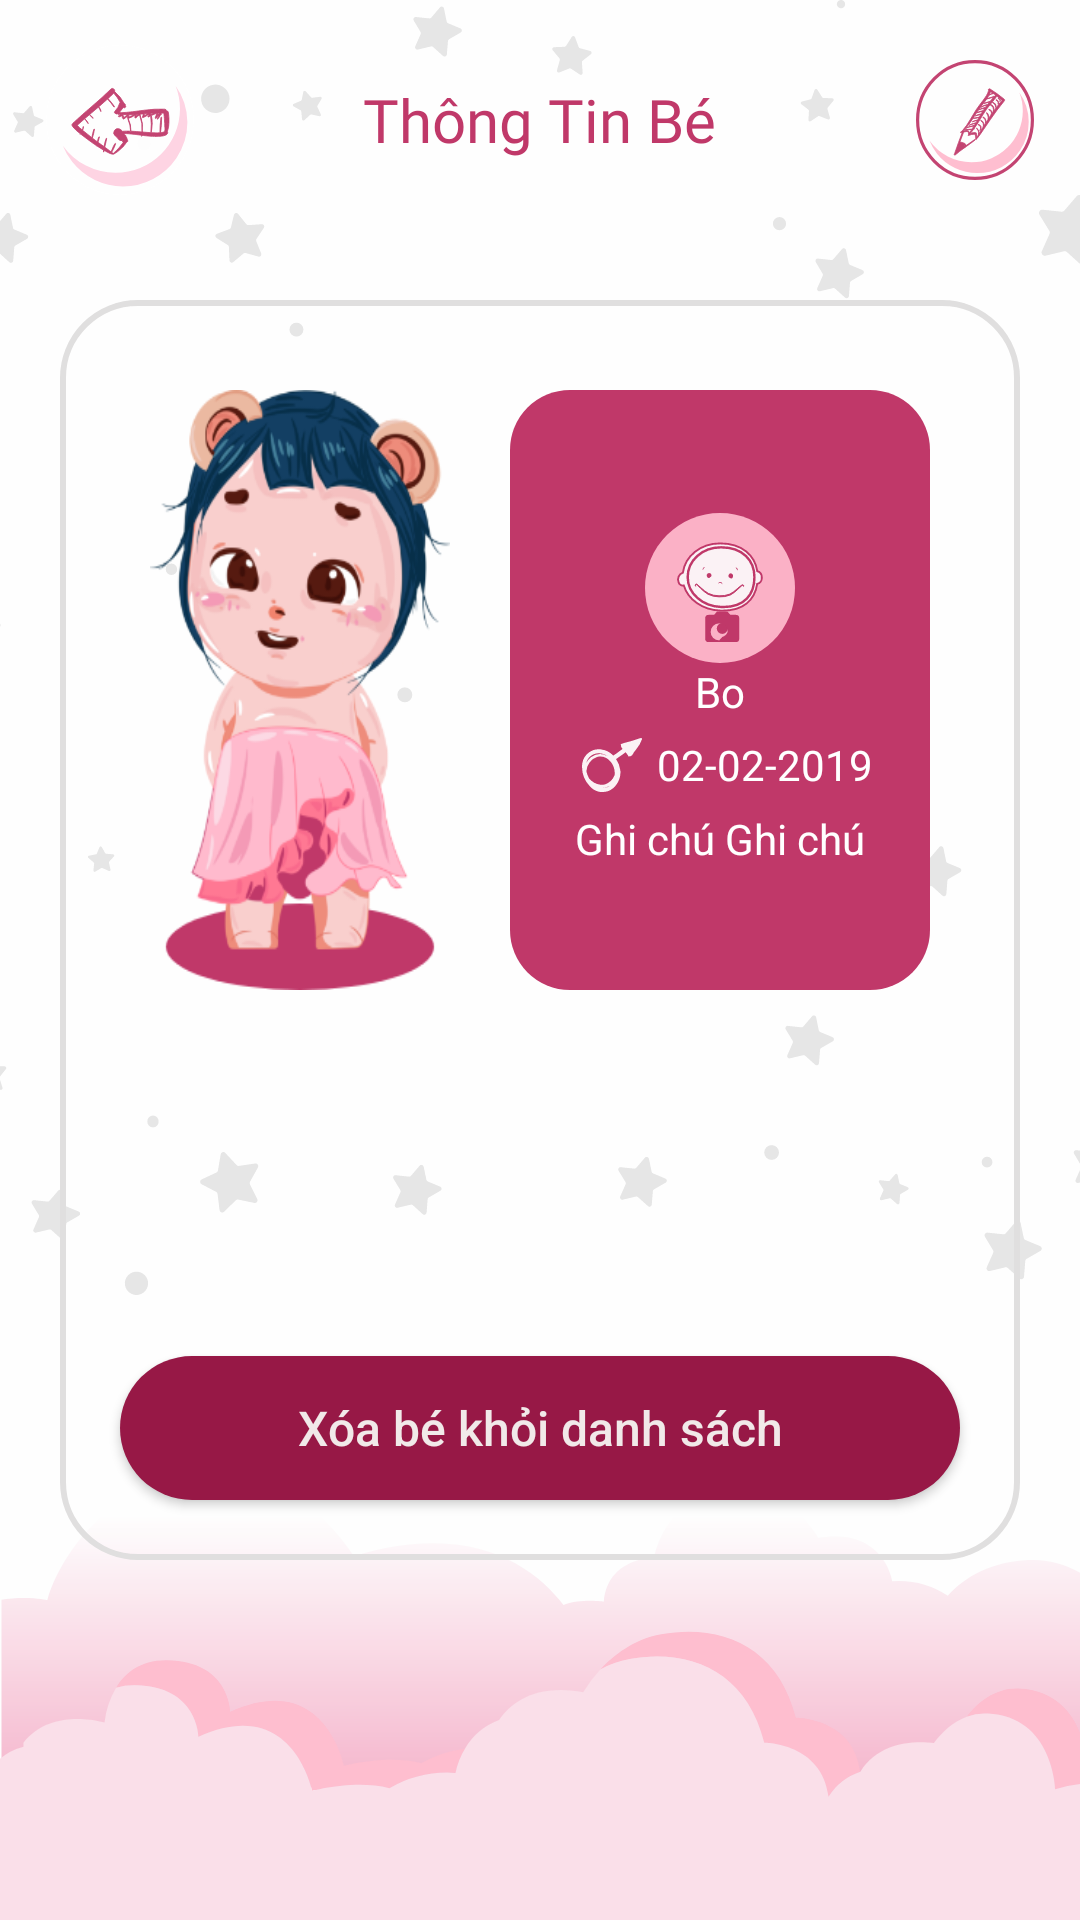

Point at icon controls on the screen. Image size 1080×1920, points as point (x, y).
nam: point (612, 765)
